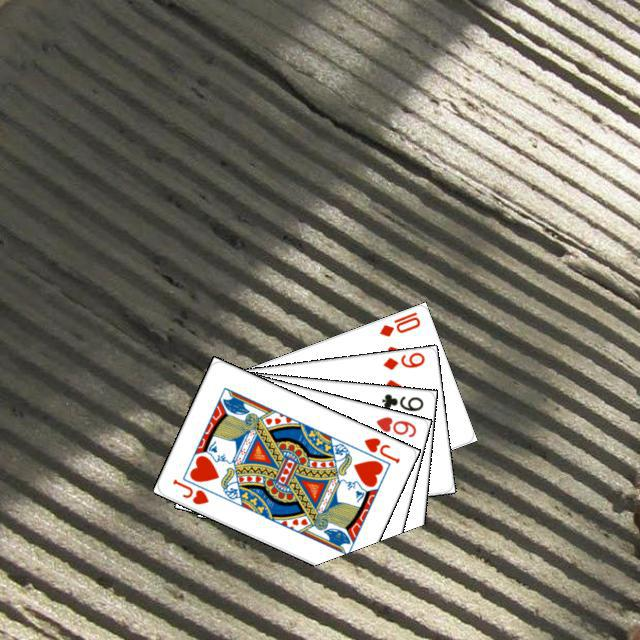10d: (374, 307, 422, 338)
6h: (371, 412, 418, 439)
9c: (377, 389, 425, 413)
9d: (378, 348, 426, 371)
Jh: (359, 432, 401, 465), (168, 474, 210, 506)
